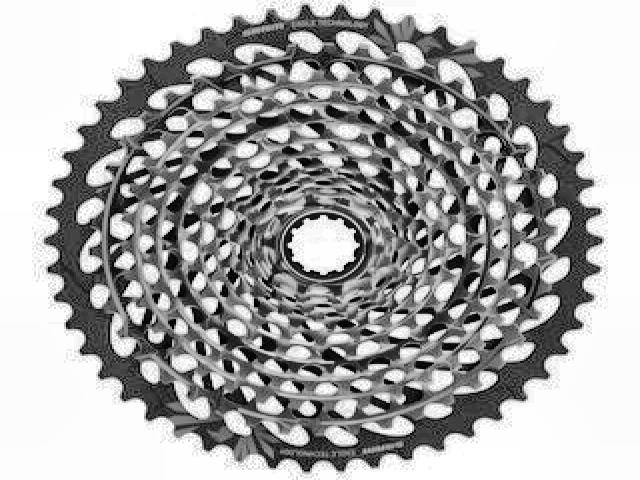cassette: (46, 4, 604, 473)
